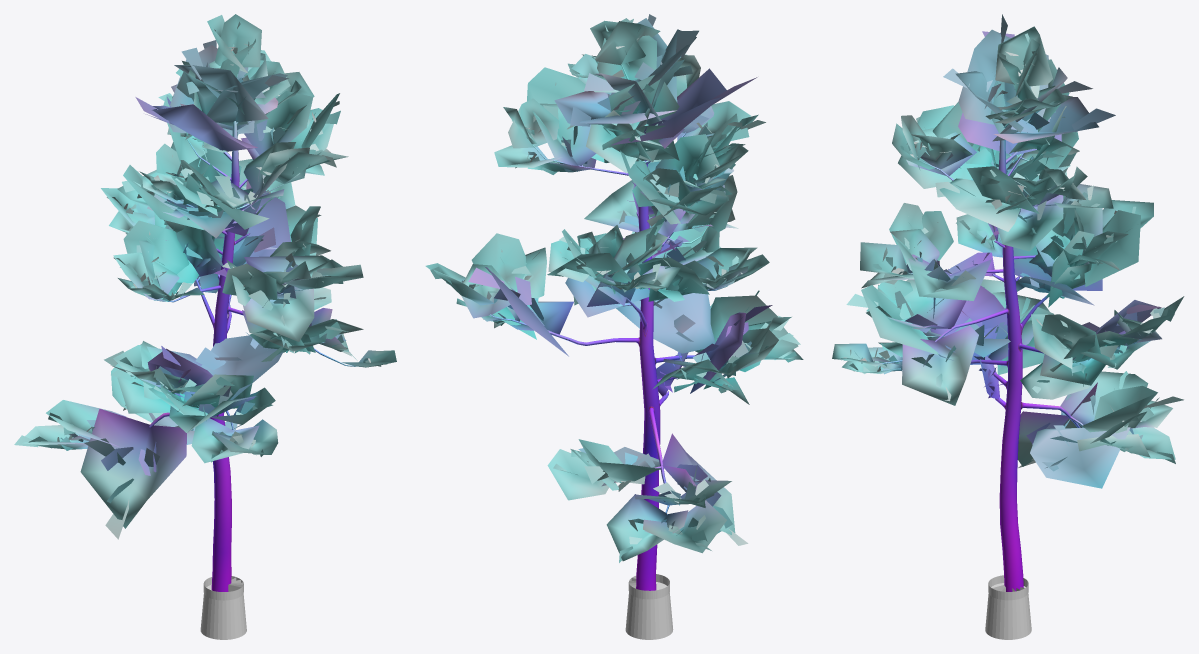
The model's file is KIT_PineBig1.fbx.
The picture shows the model from 3 angles, left to right: view 1: azimuth 30°, elevation 25°; view 2: azimuth 150°, elevation 25°; view 3: azimuth 270°, elevation 25°; orthographic projection. The views are drawn at different scales.
Visible parts, largest first — view 1: Upper_LOD0, Stump_LOD0; view 2: Upper_LOD0, Stump_LOD0; view 3: Upper_LOD0, Stump_LOD0.
Part boxes in pixels (x1,y1,x2,y2): Upper_LOD0: [14, 14, 396, 591]; Stump_LOD0: [200, 585, 246, 639]; Upper_LOD0: [425, 14, 803, 590]; Stump_LOD0: [625, 582, 673, 639]; Upper_LOD0: [832, 14, 1184, 591]; Stump_LOD0: [985, 583, 1031, 639].
Size of what is drawn, in the model's own units: 684 by 1448 by 769.
